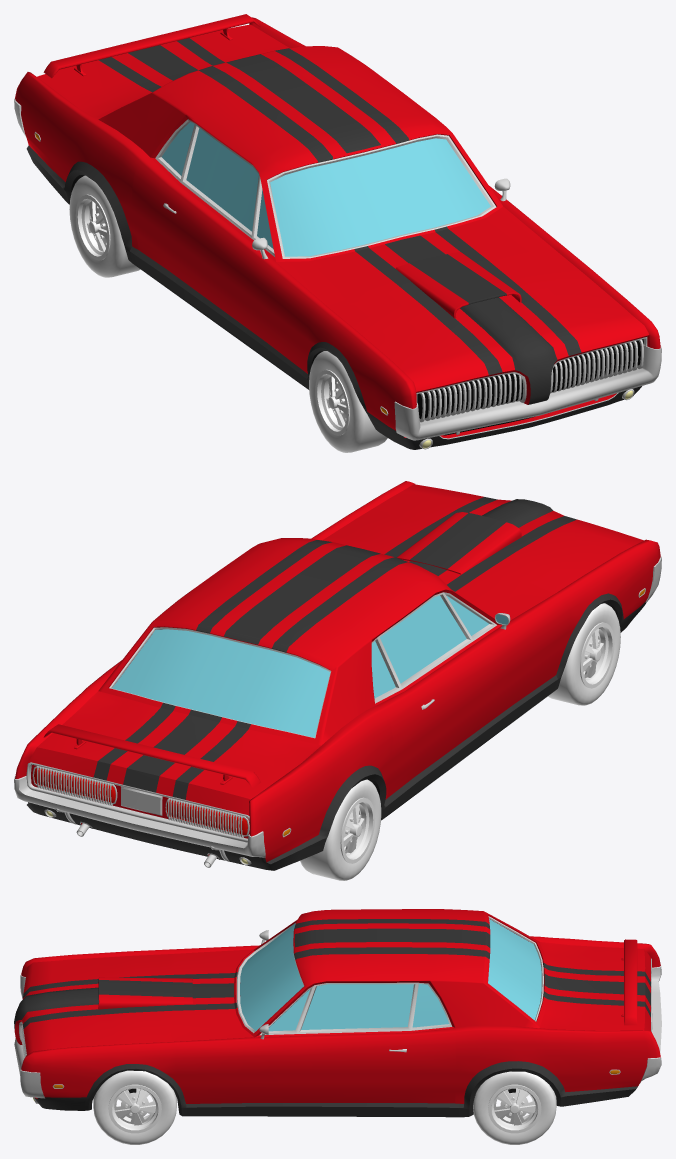
The model's file is Car.gltf.
The picture shows the model from 3 angles, top to bottom: view 1: azimuth 30°, elevation 25°; view 2: azimuth 150°, elevation 25°; view 3: azimuth 270°, elevation 25°; orthographic projection. The views are drawn at different scales.
Visible parts, largest first — view 1: Car2, W2, W4; view 2: Car2, W4, W2; view 3: Car2, W1, W3.
Part boxes in pixels (x1,y1,x2,y2): Car2: [14, 14, 661, 449]; W2: [309, 351, 387, 452]; W4: [69, 175, 140, 277]; Car2: [14, 481, 661, 870]; W4: [300, 779, 381, 880]; W2: [548, 603, 620, 705]; Car2: [14, 909, 661, 1117]; W1: [93, 1070, 176, 1144]; W3: [473, 1071, 556, 1144].
Size of the model in its own units: 1.25 by 0.8817 by 3.23.
